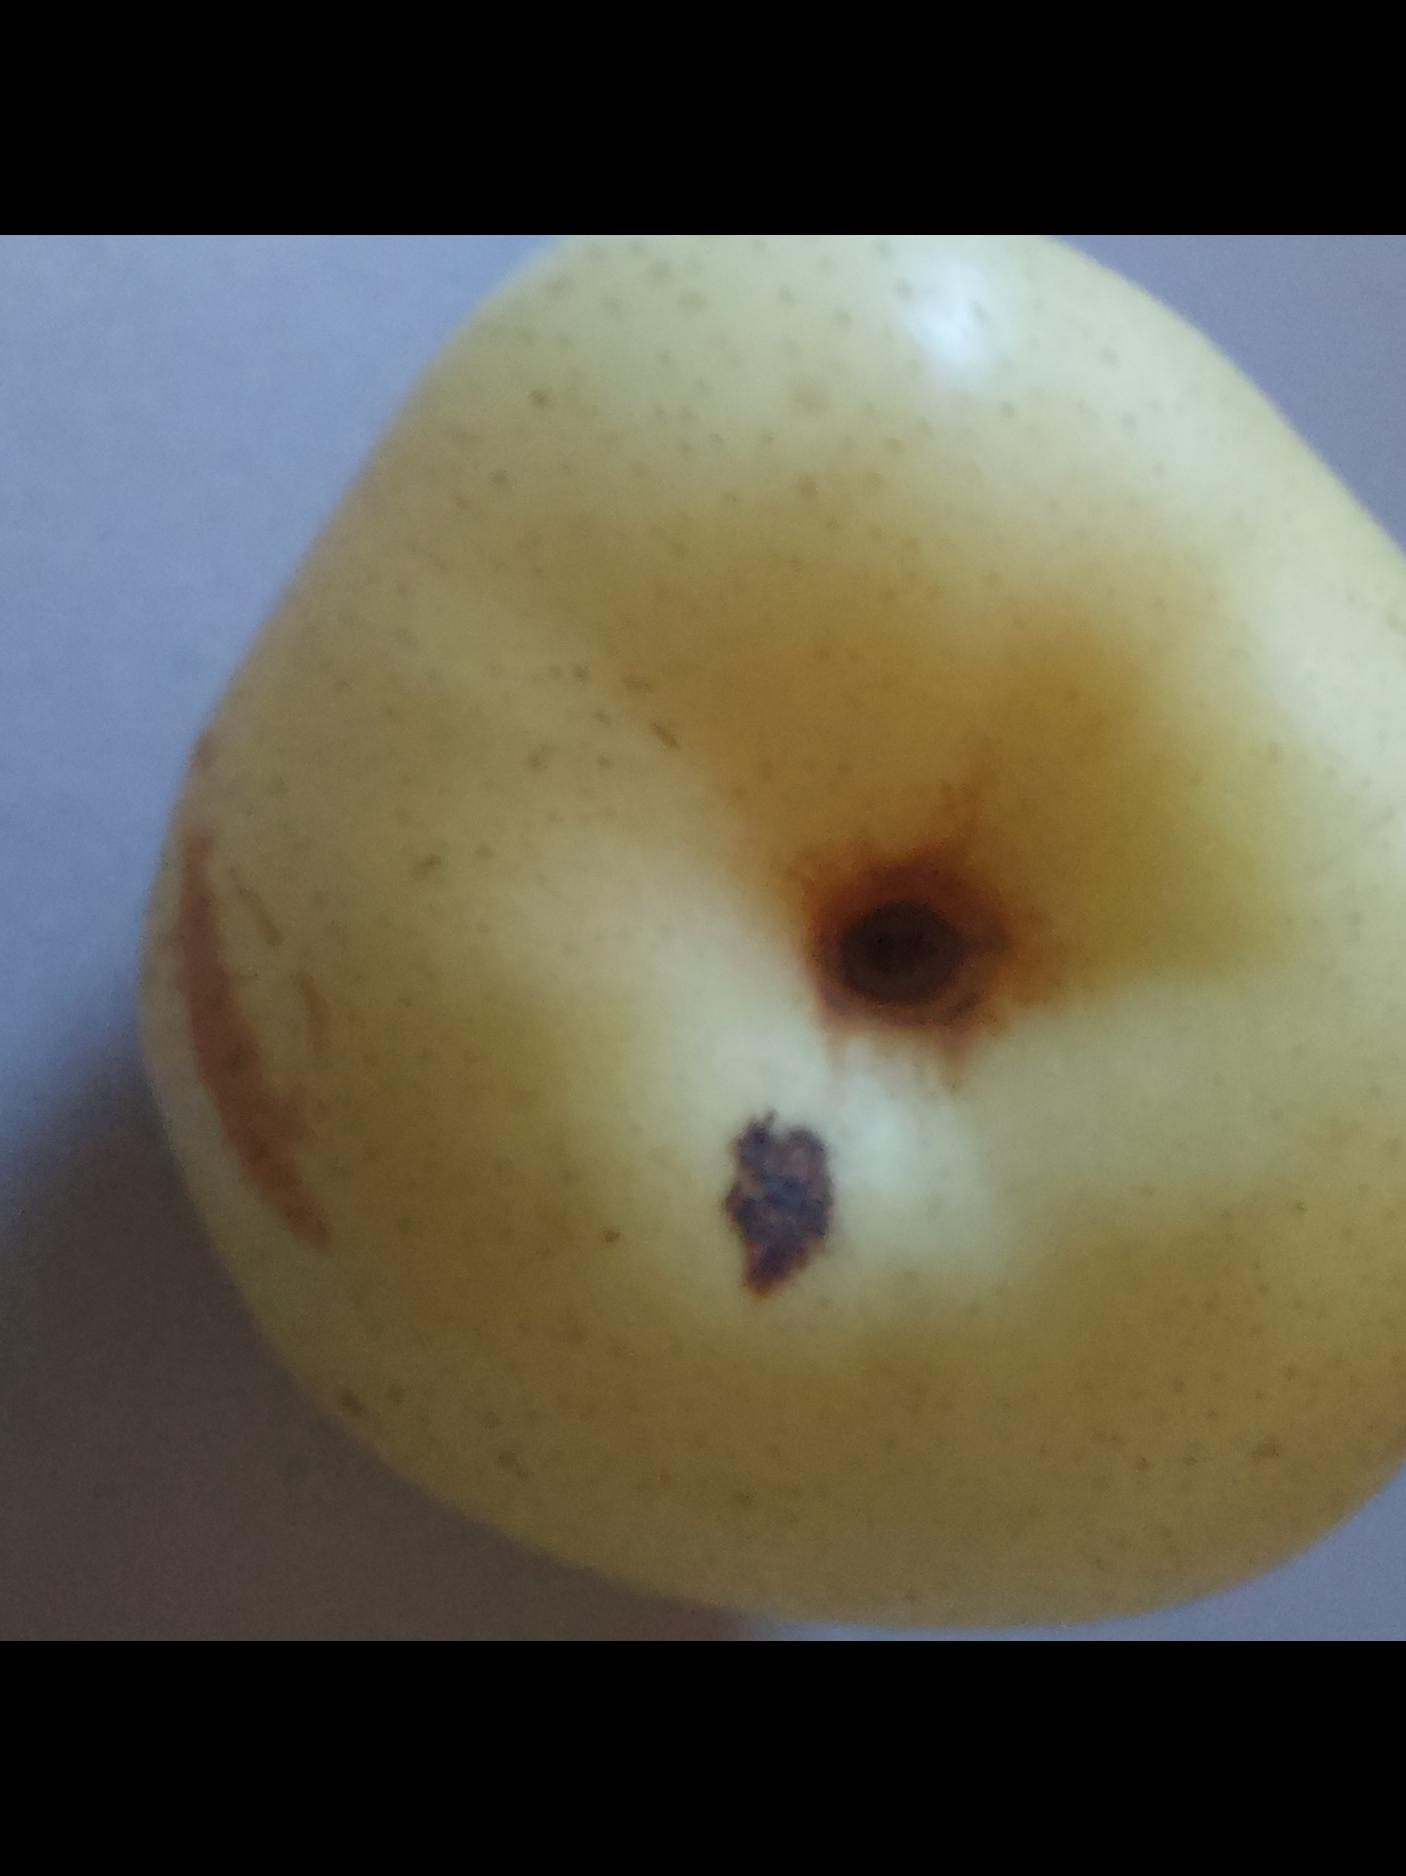Good Pear: (95, 235, 1406, 1641)
